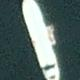ship: (0, 0, 68, 40)
